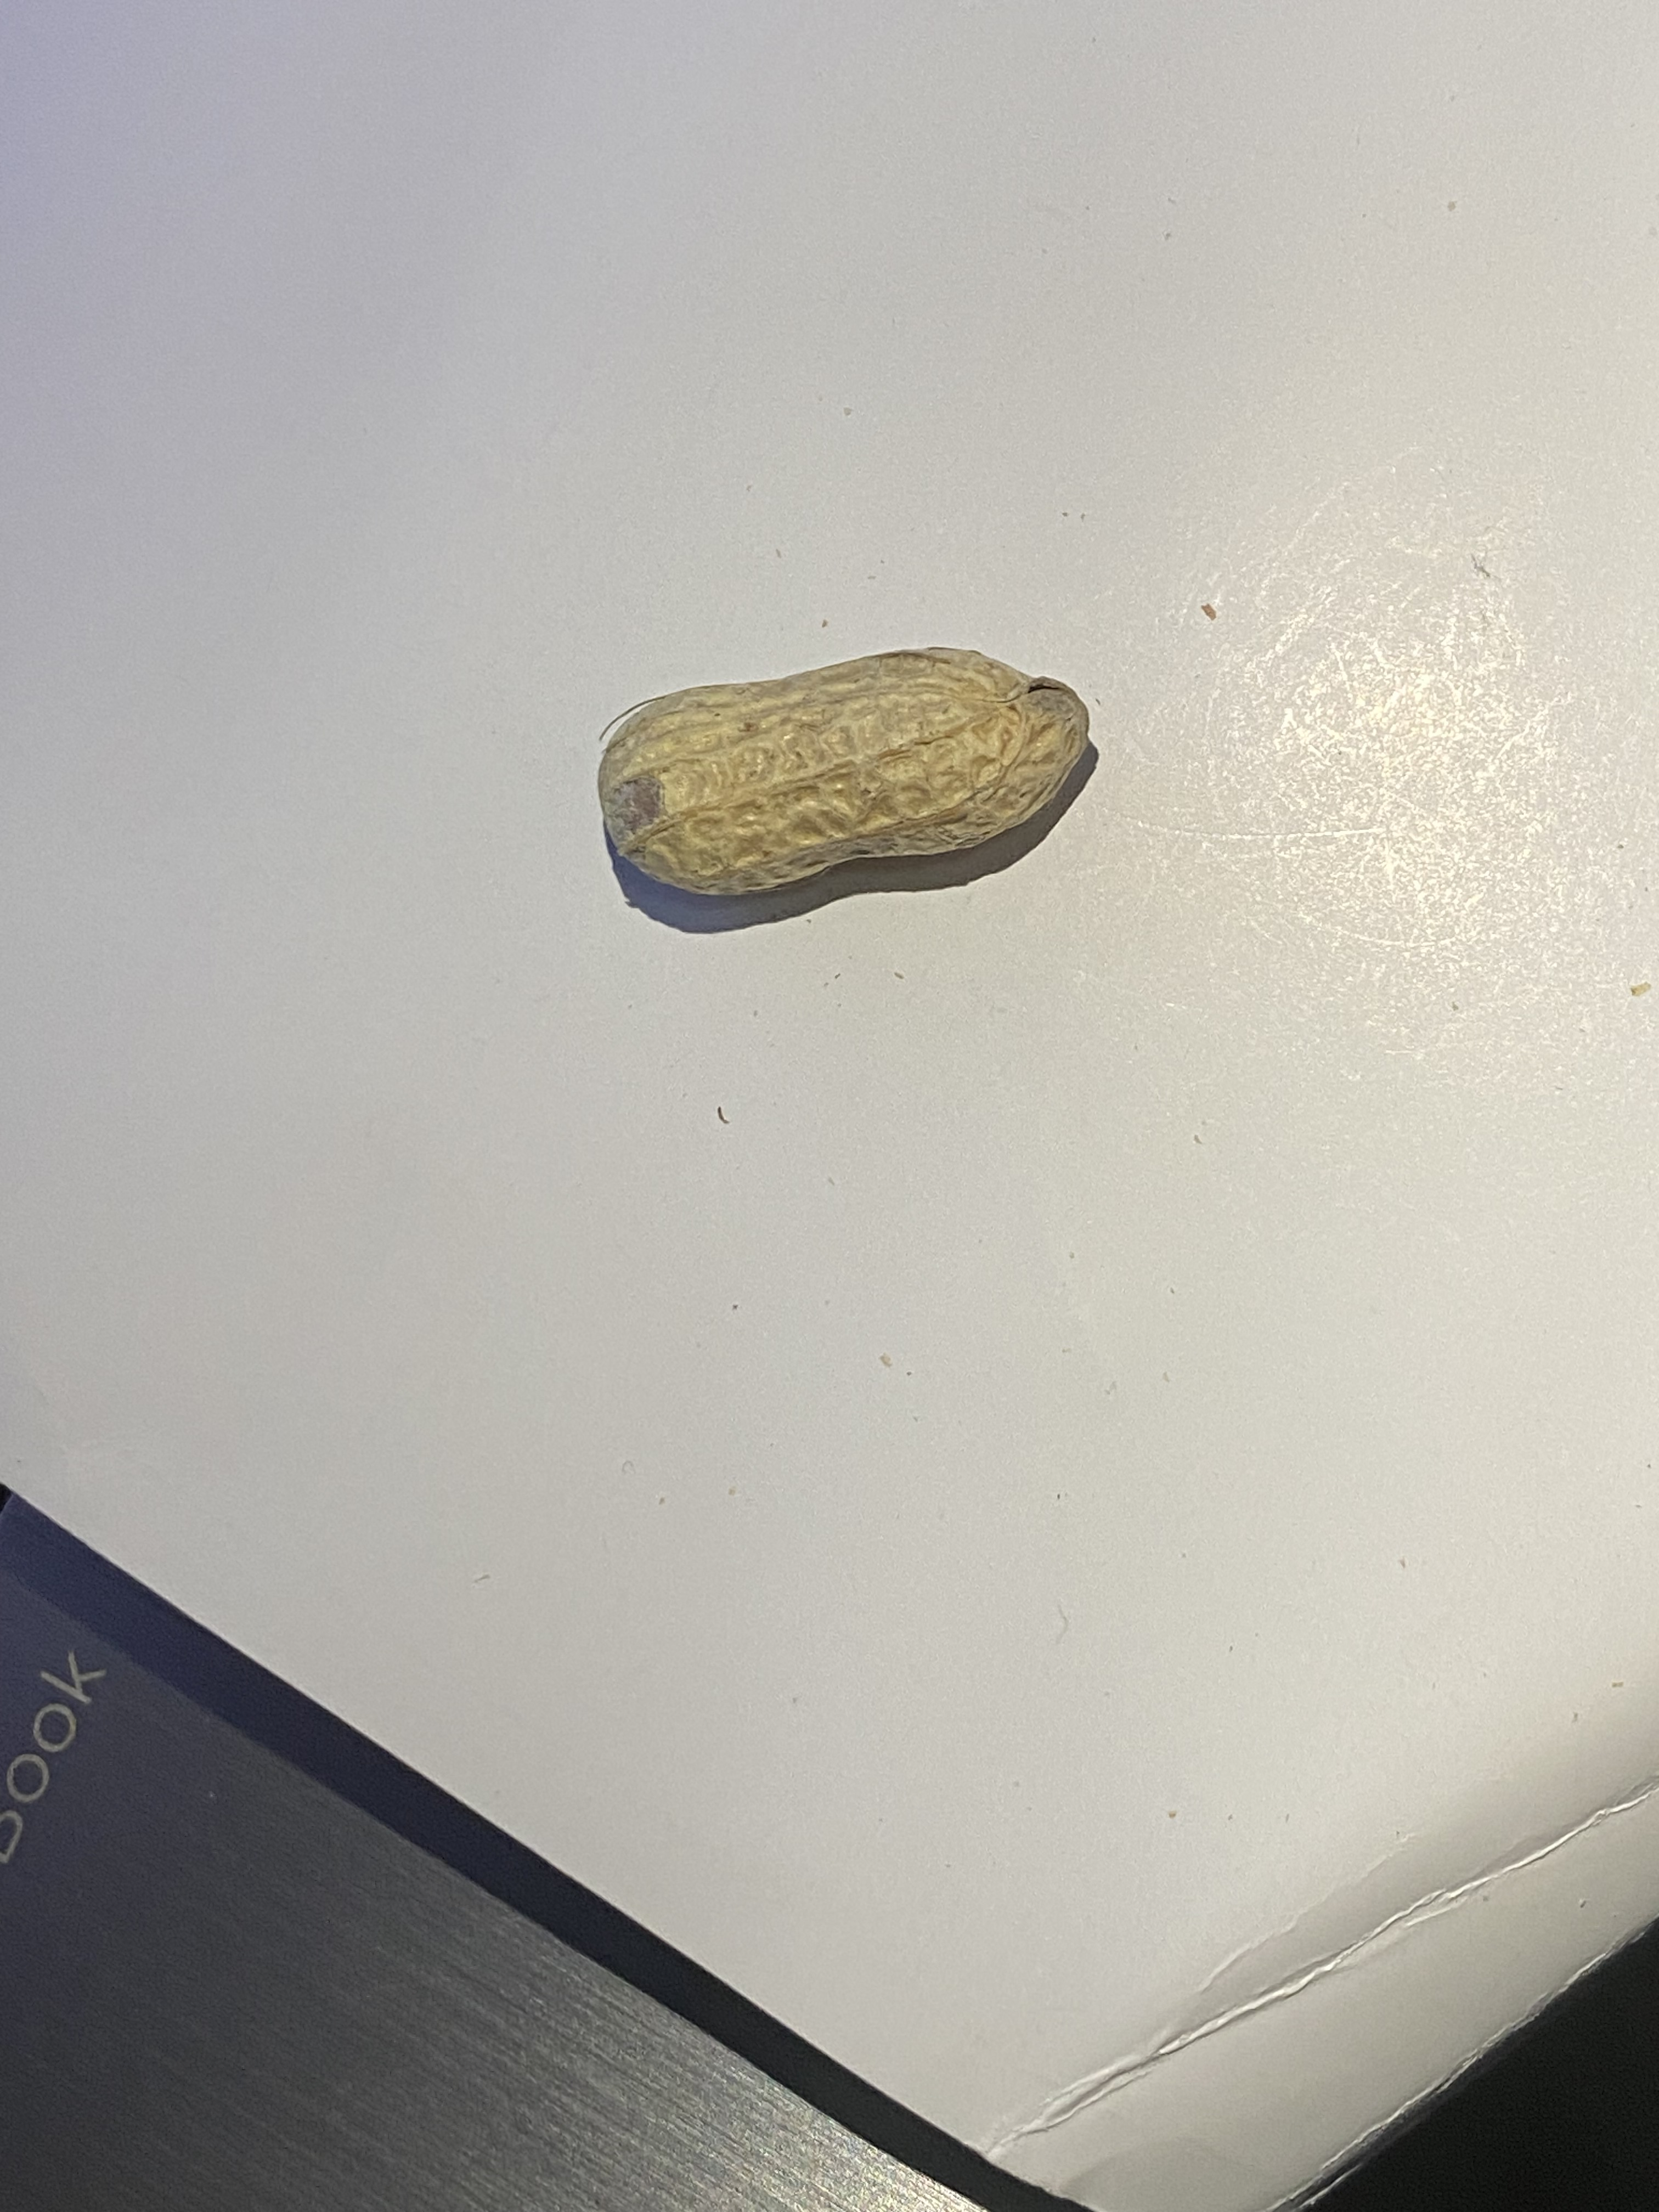kacang2: (549, 632, 1122, 928)
